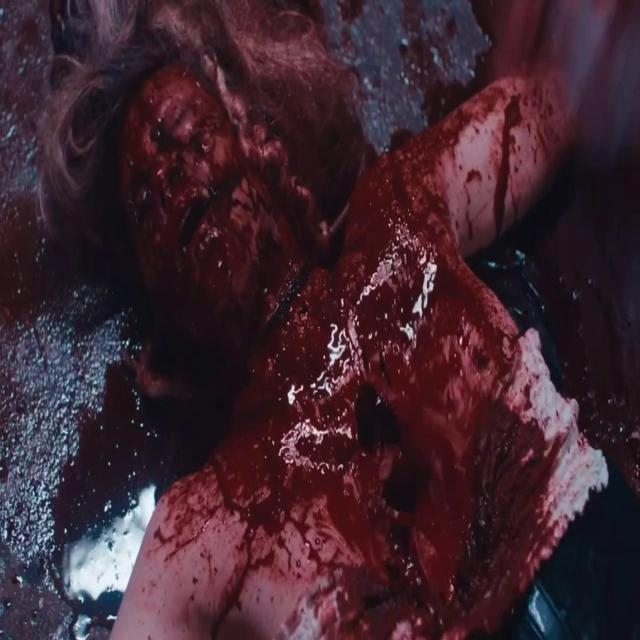flood: (42, 355, 234, 640), (350, 362, 523, 640), (130, 90, 263, 316), (354, 200, 452, 350)
